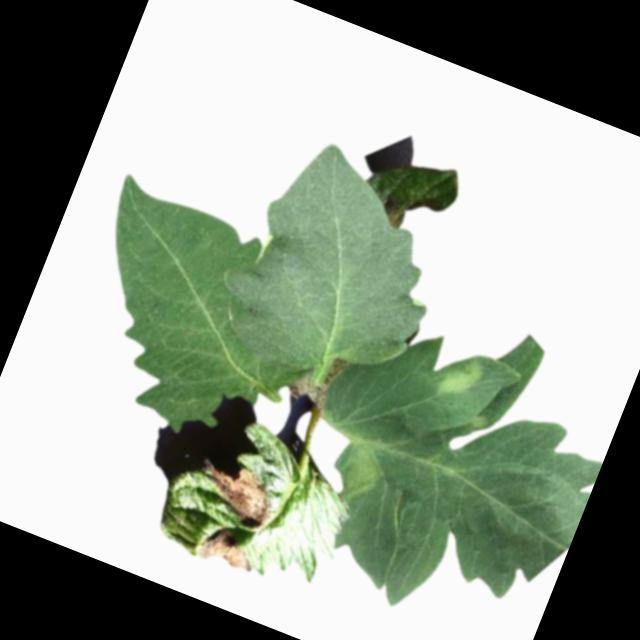Late_blight: (188, 449, 285, 532), (327, 427, 394, 508), (285, 342, 344, 409), (192, 522, 261, 578), (429, 344, 488, 409), (374, 190, 423, 233)
healthy: (44, 172, 339, 464), (201, 123, 471, 407)
